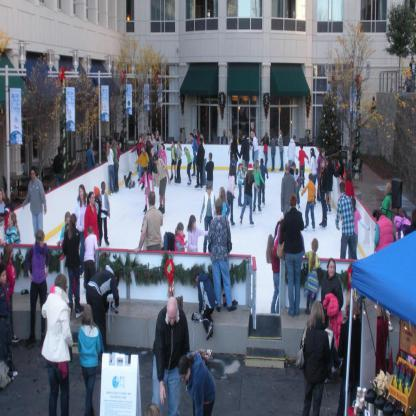face: (169, 311, 177, 327), (329, 263, 336, 277), (1, 271, 7, 284), (181, 375, 190, 381), (80, 189, 85, 199), (91, 194, 96, 204), (40, 237, 44, 248), (10, 249, 14, 258), (67, 219, 71, 227), (9, 215, 12, 225), (181, 228, 184, 237), (32, 171, 35, 179), (103, 184, 106, 191), (323, 161, 326, 168), (349, 153, 352, 160), (194, 221, 196, 230), (152, 149, 155, 155), (251, 124, 254, 130), (208, 190, 211, 195), (353, 145, 356, 150), (233, 156, 236, 161), (324, 152, 326, 158), (210, 155, 212, 161), (92, 143, 94, 148), (121, 144, 123, 149), (173, 142, 175, 147), (162, 146, 164, 151), (143, 148, 145, 153), (140, 138, 142, 143), (146, 137, 148, 142), (152, 135, 154, 140), (191, 135, 193, 140), (225, 131, 227, 136), (159, 137, 161, 141), (186, 150, 188, 154), (280, 132, 282, 136), (241, 166, 242, 171), (144, 136, 145, 139), (178, 144, 179, 147)
